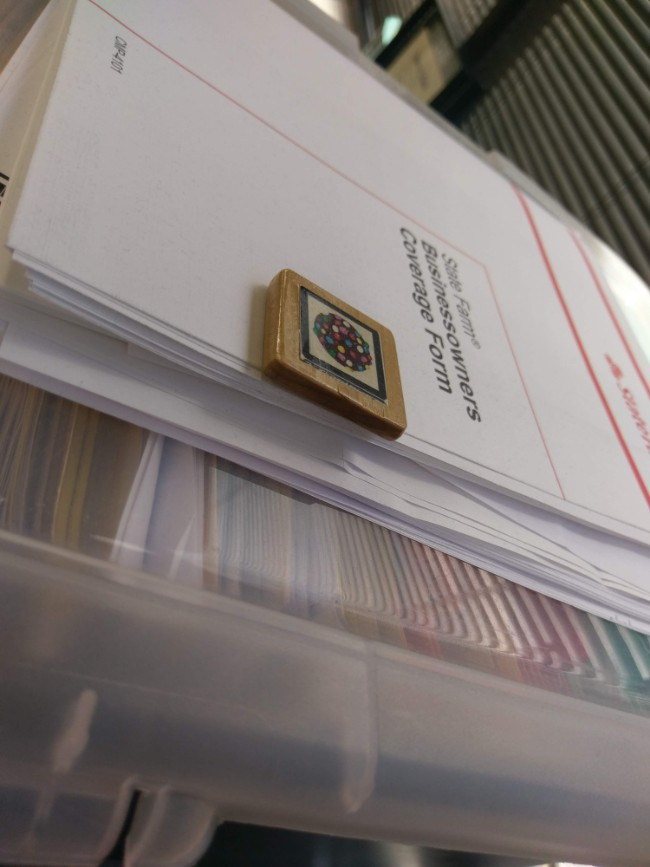cookie: (274, 282, 413, 409)
